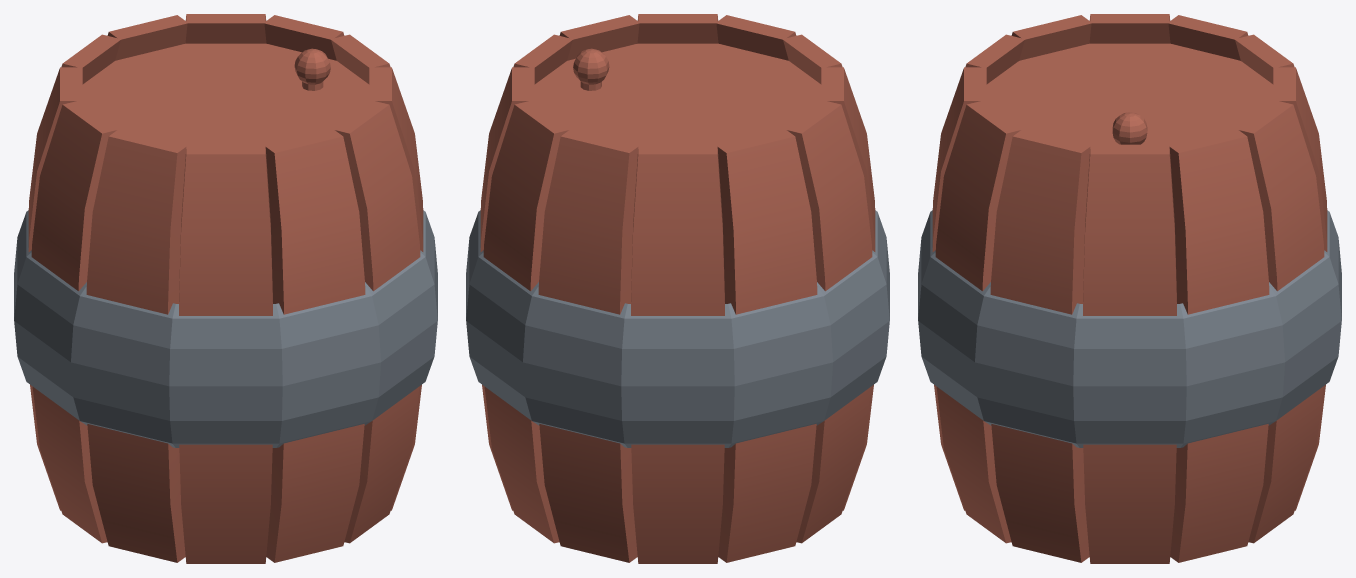
Rendered from Barrel.fbx.
3 views of the same model, side by side, from view 1: azimuth 30°, elevation 25°; view 2: azimuth 150°, elevation 25°; view 3: azimuth 270°, elevation 25° (orthographic).
Visible parts, largest first — view 1: Barrel; view 2: Barrel; view 3: Barrel.
Boxes of the visible parts, x1=… form: Barrel: x1=14, y1=14, x2=437, y2=563; Barrel: x1=466, y1=14, x2=889, y2=563; Barrel: x1=918, y1=14, x2=1341, y2=563.
Size of the model in its own units: 0.8674 by 0.9541 by 0.8674.
